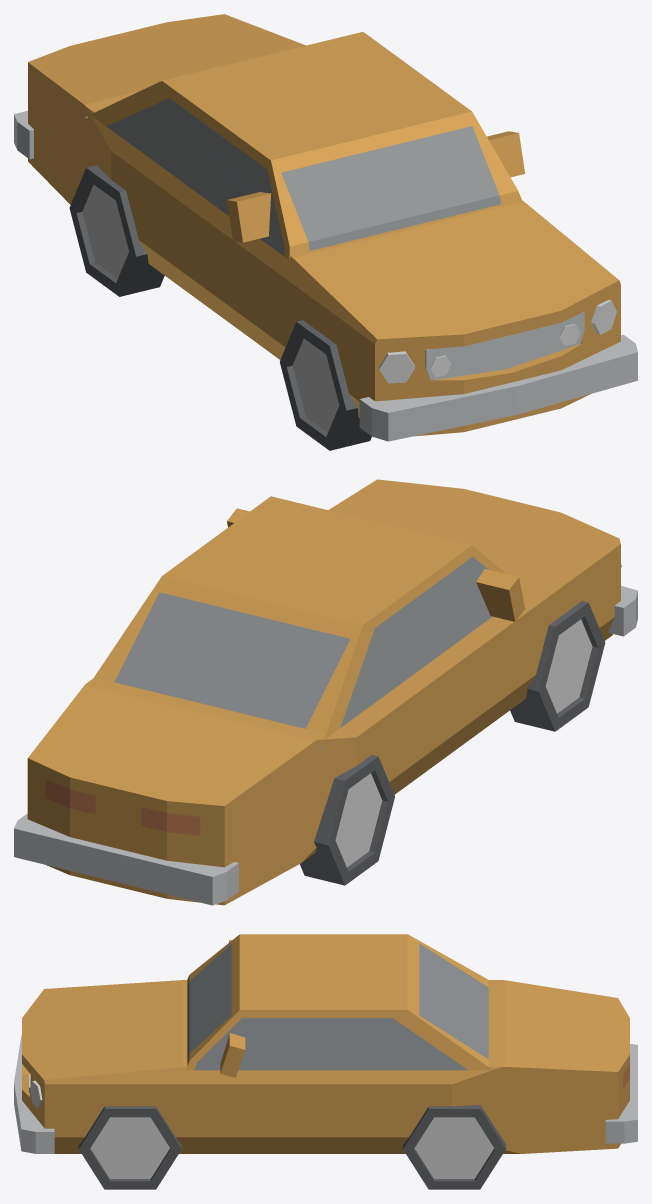
Rendered from Amazing Turing-Kup.glb.
The picture shows the model from 3 angles, top to bottom: view 1: azimuth 30°, elevation 25°; view 2: azimuth 150°, elevation 25°; view 3: azimuth 270°, elevation 25°; orthographic projection. The views are drawn at different scales.
Visible parts, largest first — view 1: Mesh_Mesh_head_geo.001_lambert2SG.001; view 2: Mesh_Mesh_head_geo.001_lambert2SG.001; view 3: Mesh_Mesh_head_geo.001_lambert2SG.001.
Part boxes in pixels (x1,y1,x2,y2): Mesh_Mesh_head_geo.001_lambert2SG.001: (14, 14, 637, 450); Mesh_Mesh_head_geo.001_lambert2SG.001: (14, 479, 637, 905); Mesh_Mesh_head_geo.001_lambert2SG.001: (14, 934, 637, 1189).
Bounding box in the file's own units: 31 × 23 × 77.
